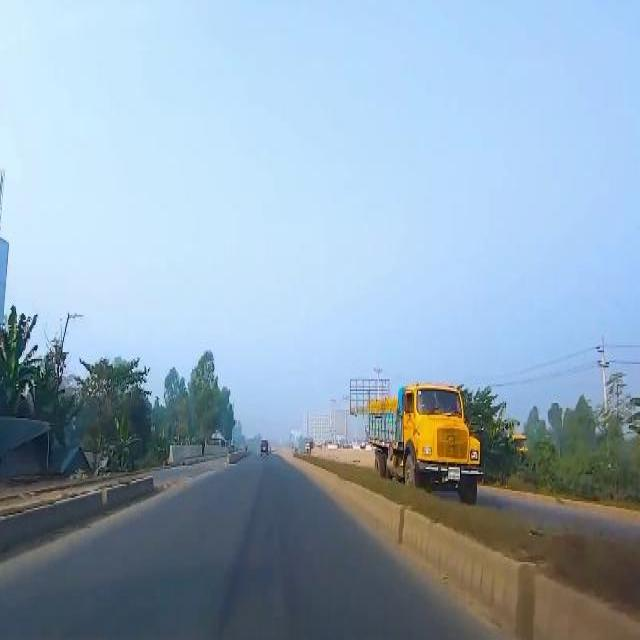car: (259, 437, 268, 450)
truck: (366, 381, 478, 496)
